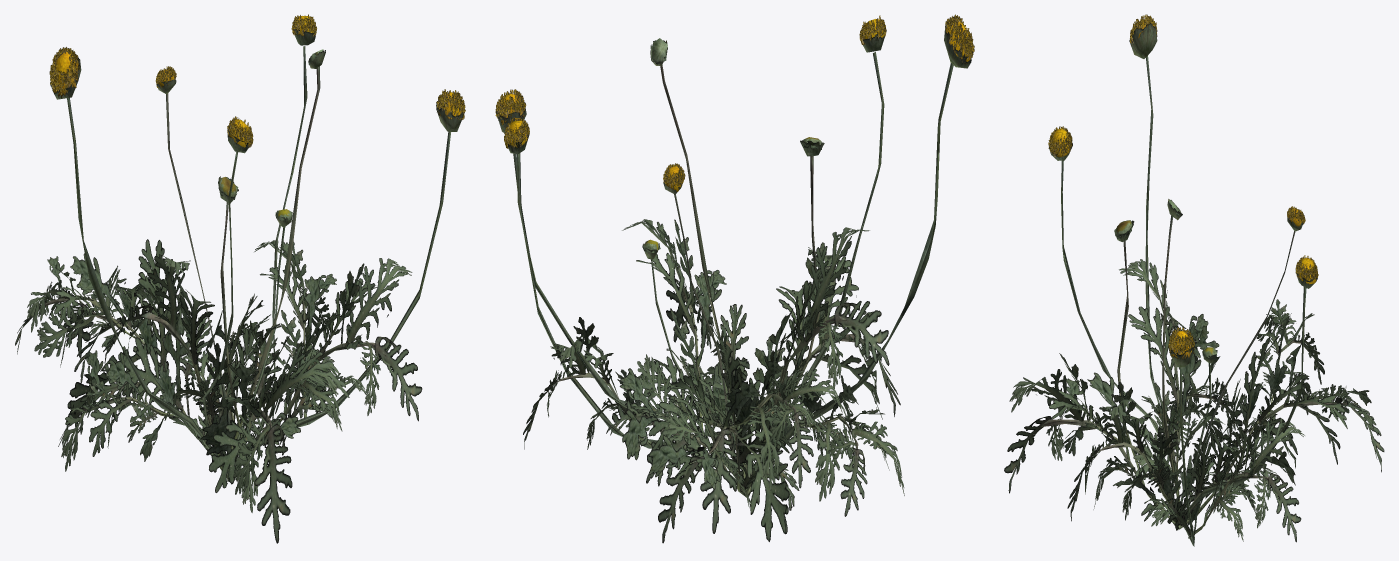
File: flower_stinkkruid_single_1.fbx
3 views of the same model, side by side, from view 1: azimuth 30°, elevation 25°; view 2: azimuth 150°, elevation 25°; view 3: azimuth 270°, elevation 25° (orthographic). The views are drawn at different scales.
Visible parts, largest first — view 1: flower_stinkkruid_single_1; view 2: flower_stinkkruid_single_1; view 3: flower_stinkkruid_single_1.
Part boxes in pixels (<box>): flower_stinkkruid_single_1: <box>15,14,465,543</box>; flower_stinkkruid_single_1: <box>495,14,974,543</box>; flower_stinkkruid_single_1: <box>1004,14,1384,546</box>.
Size of the model in its own units: 0.351 by 0.38 by 0.3005.
Materials: 1 (1 with a texture image).
